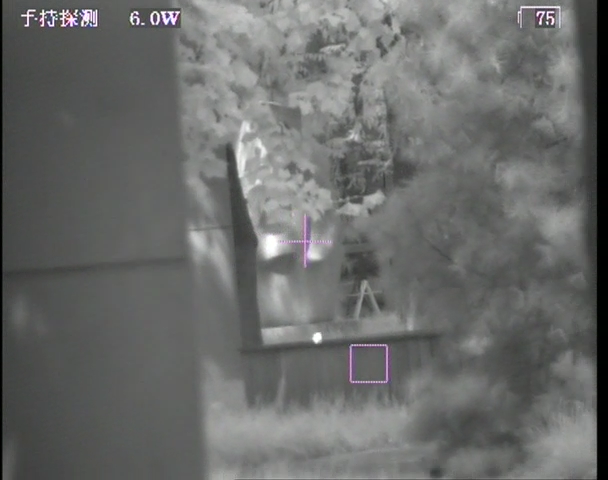my: (312, 330, 324, 344)
